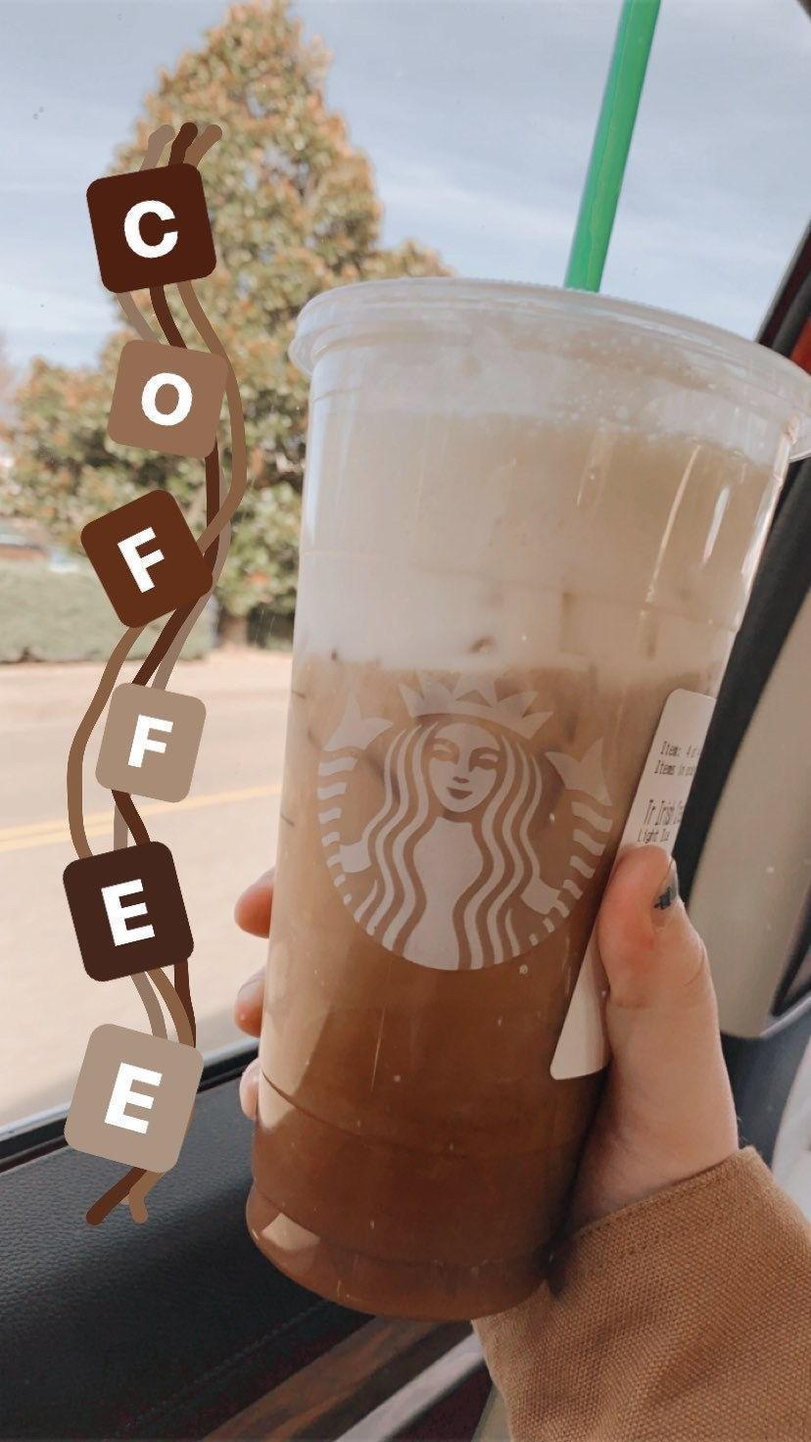cup-disposable: (245, 267, 807, 1322)
